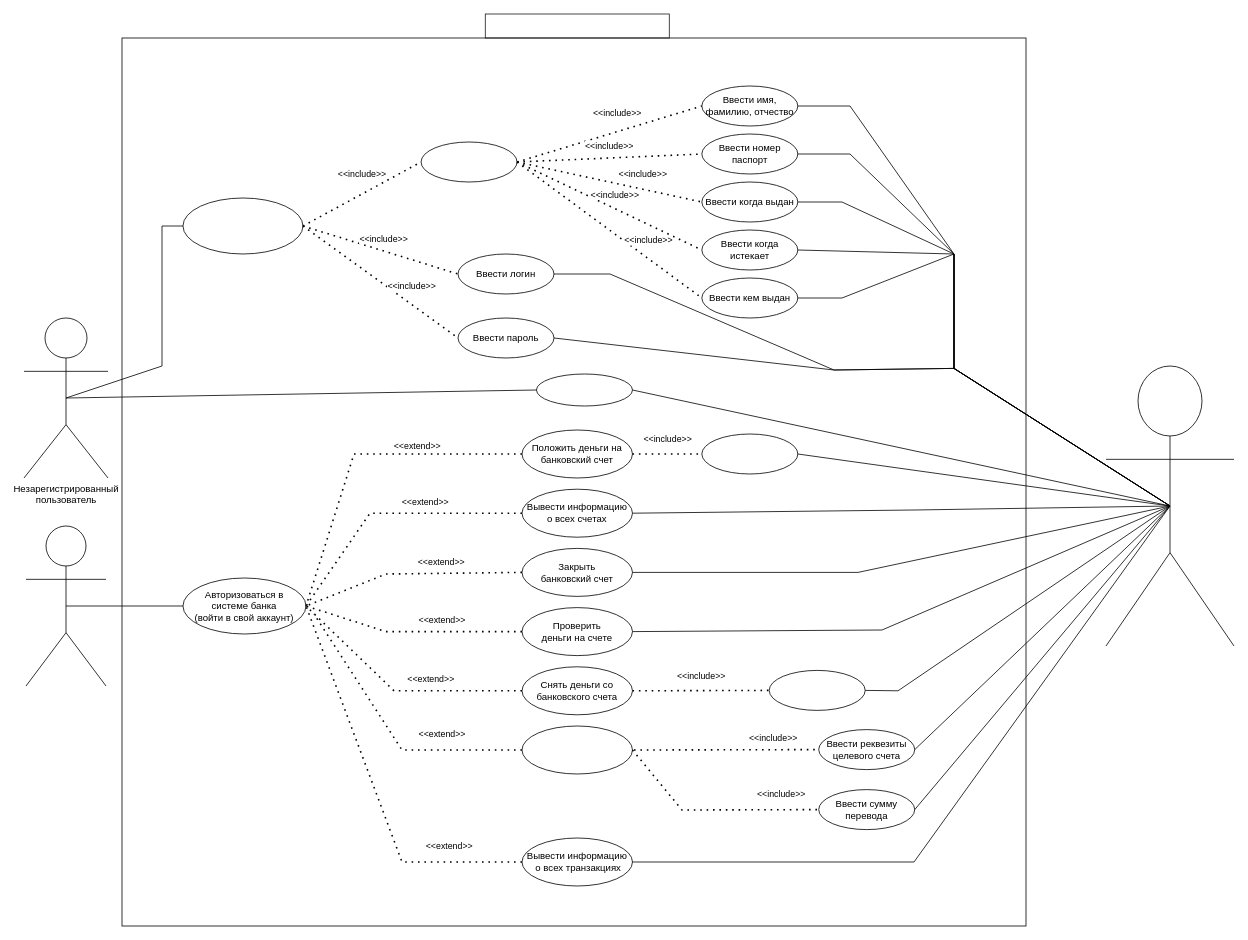
The diagram is 1248 pixels wide and 940 high, and some of its shapes have lost their labels. Each missing label, with the box of its shape:
Банк: (1105, 365, 1234, 646)
Банковский клиент(приложение): (484, 13, 669, 38)
Ввести данные паспорта: (420, 141, 517, 182)
Внести сумму для девозита: (701, 433, 798, 474)
Внести сумму для снятия: (768, 670, 865, 710)
Зарегестрированный пользоавтель: (25, 525, 106, 686)
Перевести деньги с одного банковского счета на другой: (521, 725, 632, 774)
Подтвердить регистрацию: (536, 373, 632, 406)
Создать аккаунт: (182, 197, 303, 254)
